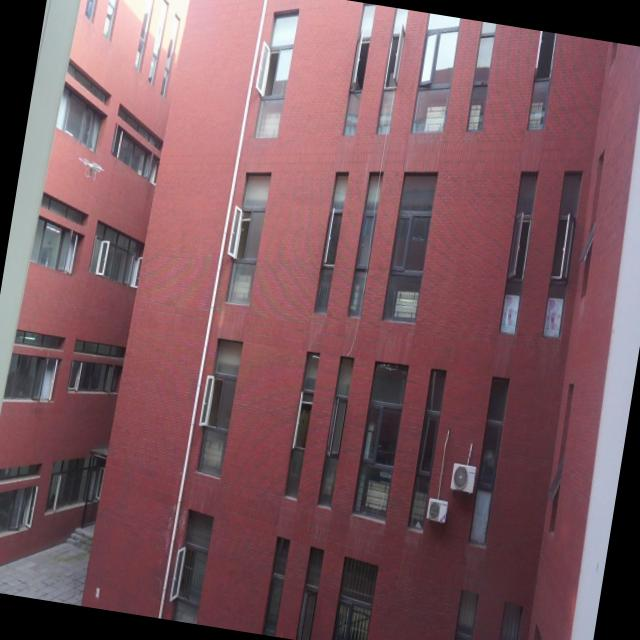drone: (74, 153, 108, 188)
